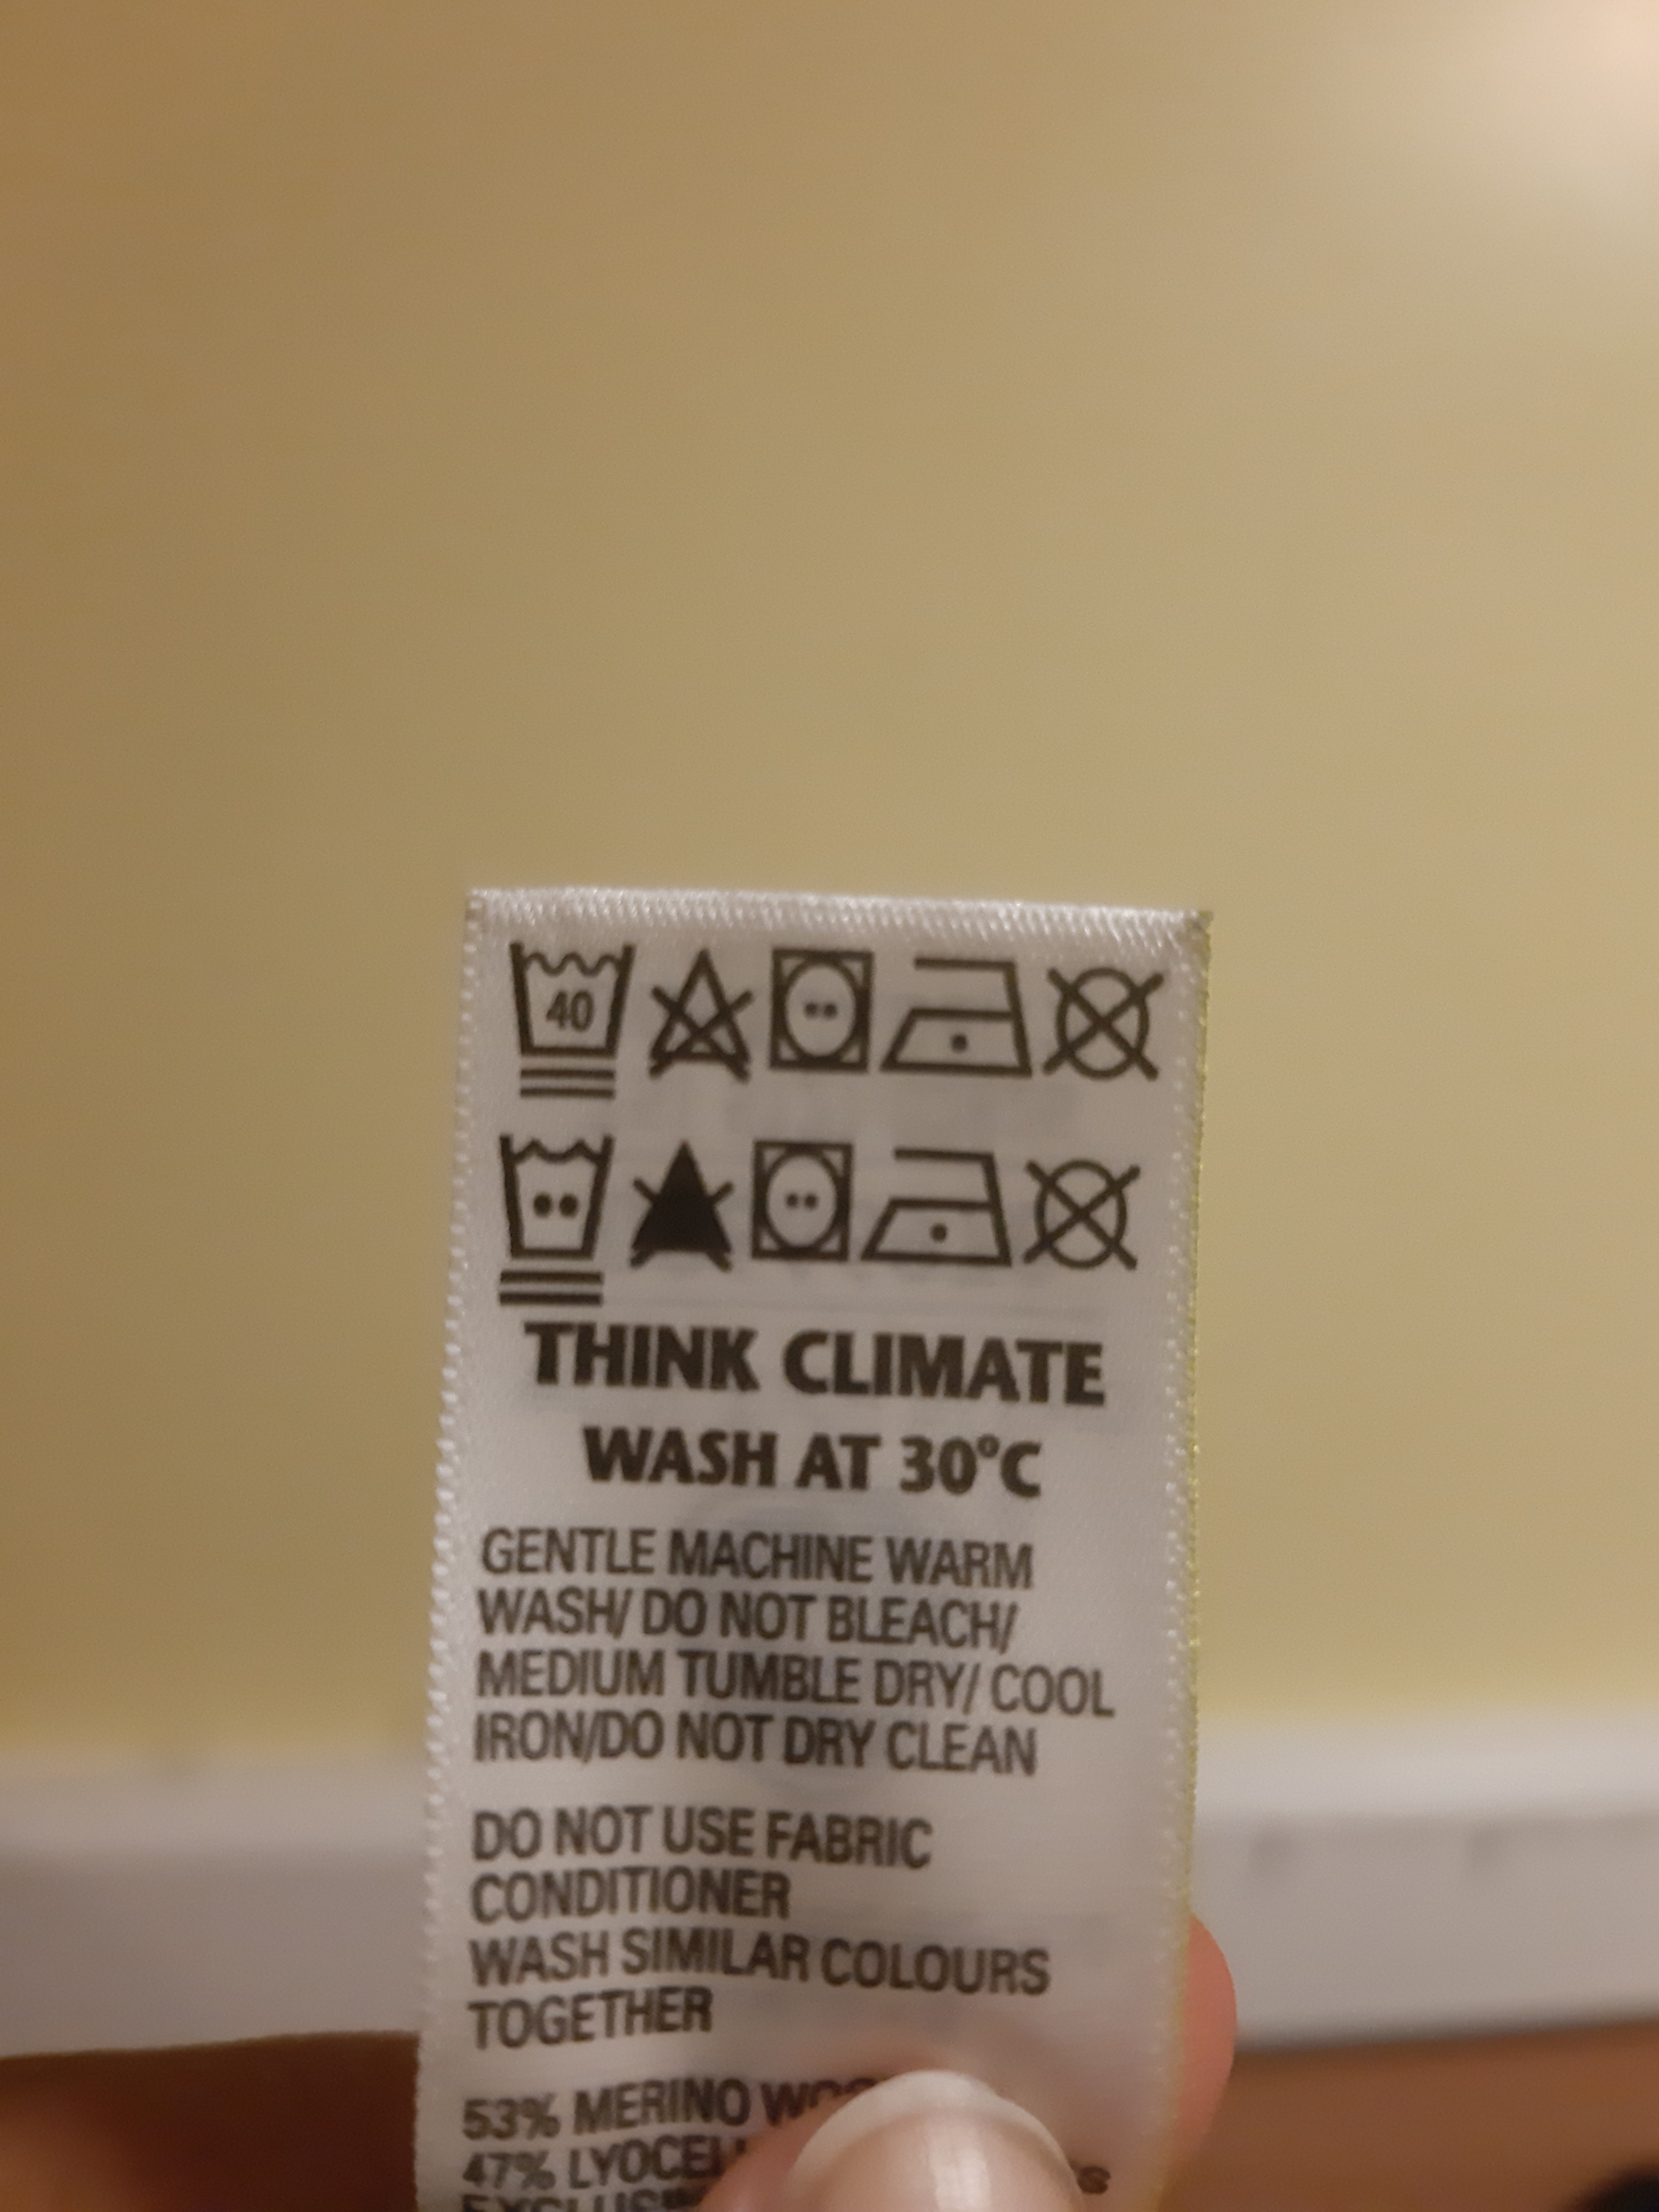do not bleach: (650, 935, 760, 1109)
do not dry clean: (1044, 948, 1171, 1106)
iron low temp: (901, 944, 1044, 1097)
tumble dry medium temp: (775, 946, 887, 1103)
wash at or below 40: (497, 920, 636, 1120)
